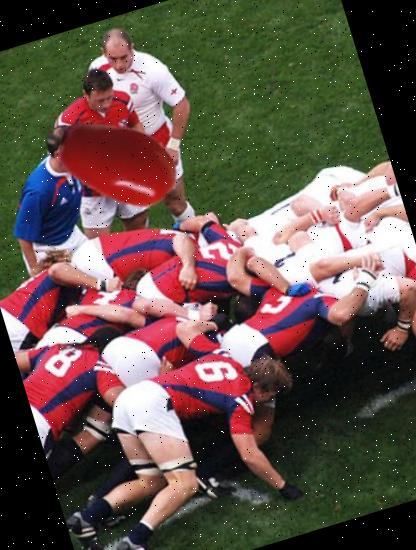Tomato: (41, 85, 196, 239)
